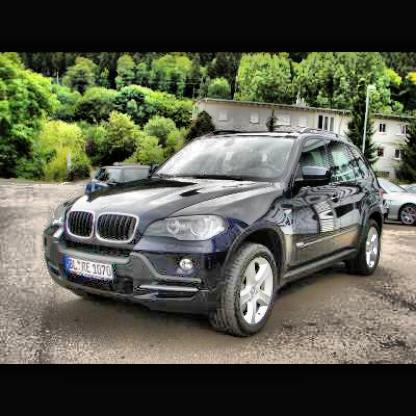BMW X5 SUV 2007: (40, 122, 394, 353)
